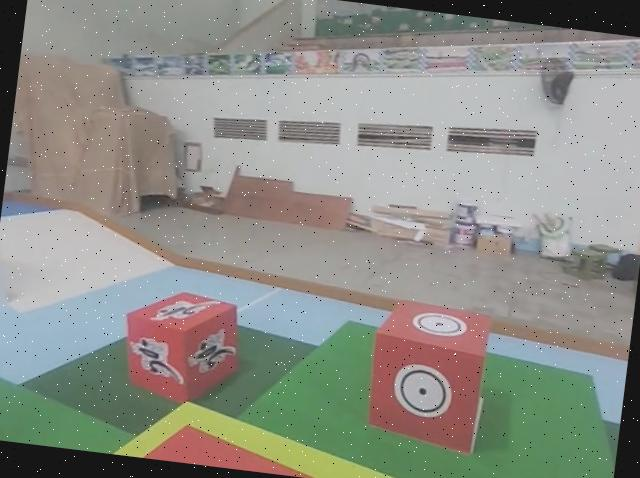R1: (113, 279, 251, 415)
R2 Real: (357, 292, 498, 461)
